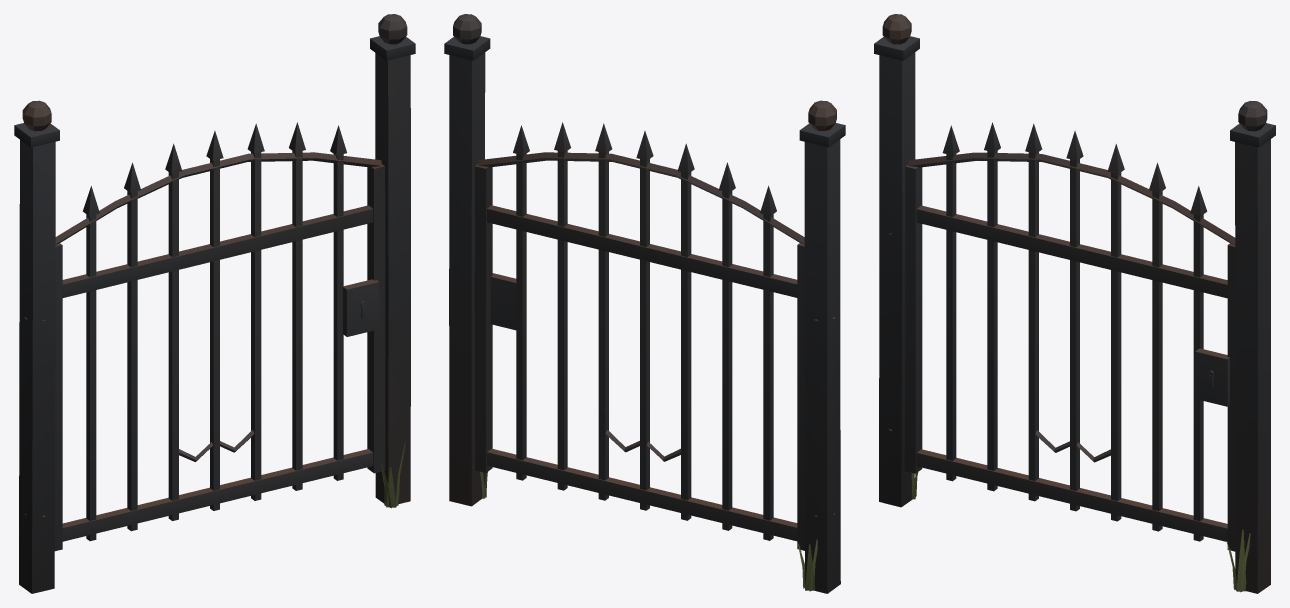
File: ph_prop_gate_small.glb
3 views of the same model, side by side, from view 1: azimuth 30°, elevation 25°; view 2: azimuth 150°, elevation 25°; view 3: azimuth 330°, elevation 25° (orthographic).
Visible parts, largest first — view 1: ph_prop_gate_small; view 2: ph_prop_gate_small; view 3: ph_prop_gate_small.
Part boxes in pixels (bbox=[...]): ph_prop_gate_small: bbox=[14, 14, 415, 593]; ph_prop_gate_small: bbox=[444, 14, 845, 593]; ph_prop_gate_small: bbox=[874, 14, 1275, 593].
Bounding box in the file's own units: 1.19 × 1.43 × 0.1197.
